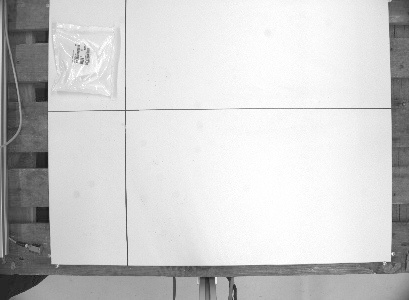t3: (47, 19, 122, 100)
